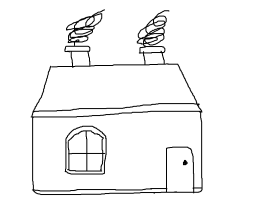closed_window: (60, 122, 112, 180)
door: (160, 139, 200, 199)
roof: (23, 58, 208, 122)
smoking_chimney: (60, 5, 108, 72), (132, 7, 177, 77)
wall: (26, 101, 210, 203)
